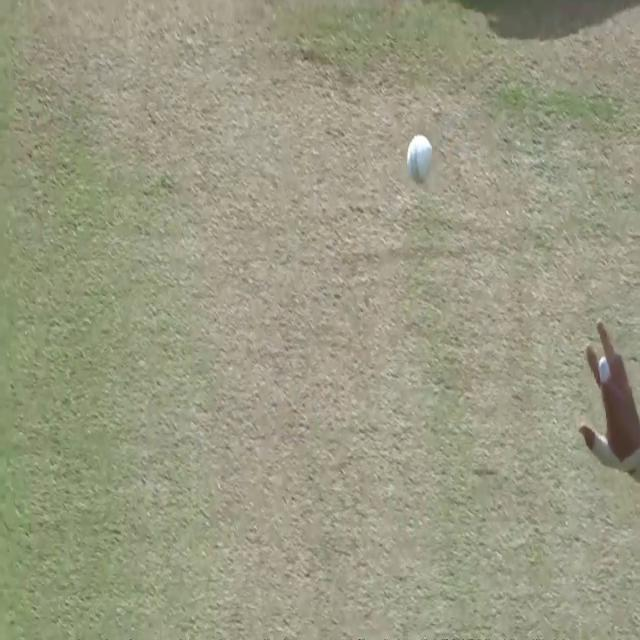ball: (408, 134, 432, 184)
